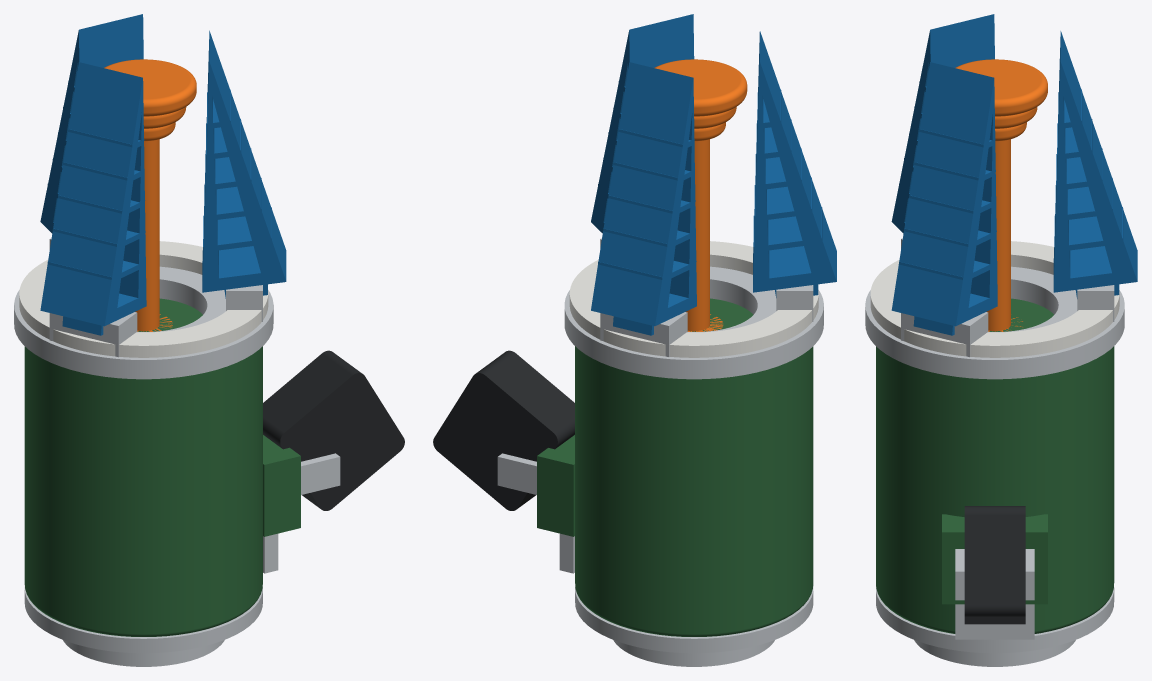
Rendered from renders_src_ee.glb.
3 renders of one model, left to right at view 1: azimuth 30°, elevation 25°; view 2: azimuth 150°, elevation 25°; view 3: azimuth 270°, elevation 25°, orthographic.
Visible parts, largest first — view 1: housing, fingers, d405, front_plate, ring_light, suction_cup, flange_adapter, cam_bracket; view 2: housing, fingers, d405, front_plate, ring_light, suction_cup, flange_adapter, cam_bracket; view 3: housing, fingers, front_plate, ring_light, d405, suction_cup, flange_adapter, cam_bracket.
Part boxes in pixels (x1,y1,x2,y2): housing: (24,298,300,636); fingers: (40,14,286,335); d405: (263,350,404,510); front_plate: (14,238,273,379); ring_light: (19,241,268,357); suction_cup: (104,59,196,331); flange_adapter: (24,586,262,666); cam_bracket: (263,453,340,573); housing: (537,298,813,636); fingers: (591,14,836,335); d405: (433,350,574,510); front_plate: (564,238,823,379); ring_light: (569,241,818,357); suction_cup: (654,59,747,331); flange_adapter: (575,586,813,666); cam_bracket: (497,453,574,573); housing: (876,298,1114,633); fingers: (891,14,1137,335); front_plate: (865,238,1124,379); ring_light: (870,241,1119,357); d405: (964,506,1025,624); suction_cup: (955,59,1047,331); flange_adapter: (876,587,1114,666); cam_bracket: (955,549,1034,639).
Size of the model in its own units: 161 by 244 by 103.
